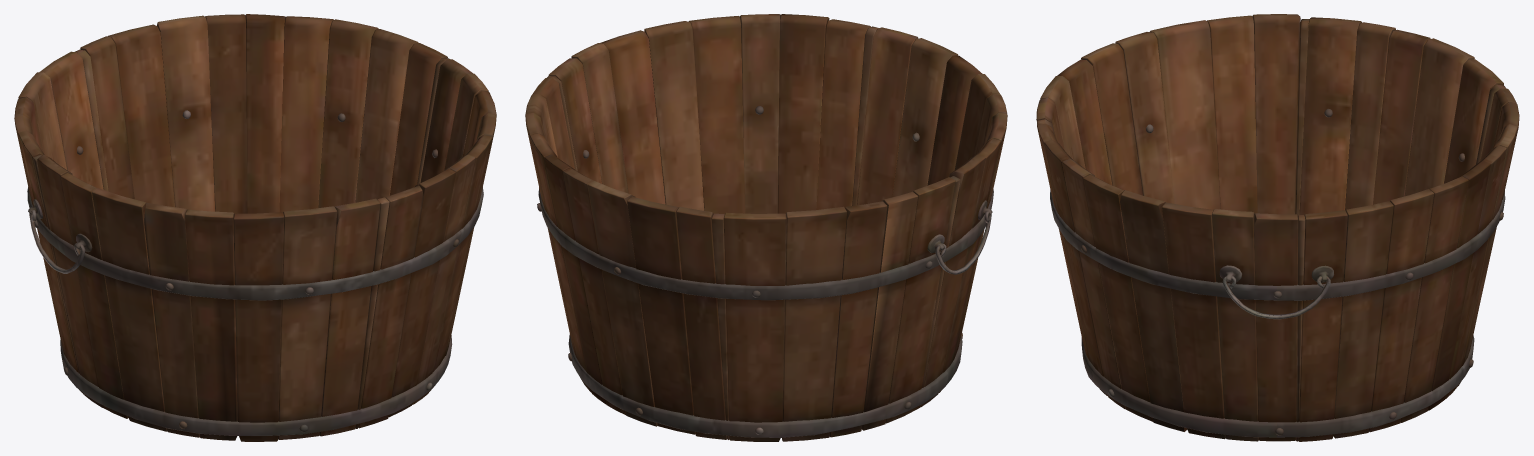
Rendered from wooden_bucket_02.glb.
3 renders of one model, left to right at view 1: azimuth 30°, elevation 25°; view 2: azimuth 150°, elevation 25°; view 3: azimuth 270°, elevation 25°, orthographic.
Parts seen in each view (by area): view 1: wooden_bucket_02, wooden_bucket_02_handle_01; view 2: wooden_bucket_02, wooden_bucket_02_handle_01; view 3: wooden_bucket_02, wooden_bucket_02_handle_02.
Boxes of the visible parts, x1=… form: wooden_bucket_02: x1=14, y1=14, x2=496, y2=441; wooden_bucket_02_handle_01: x1=29, y1=210, x2=85, y2=273; wooden_bucket_02: x1=525, y1=14, x2=1007, y2=441; wooden_bucket_02_handle_01: x1=935, y1=211, x2=991, y2=274; wooden_bucket_02: x1=1036, y1=14, x2=1519, y2=441; wooden_bucket_02_handle_02: x1=1222, y1=275, x2=1330, y2=319.
Size of the model in its own units: 0.6153 by 0.3504 by 0.6163.
1 material, 1 textured.
